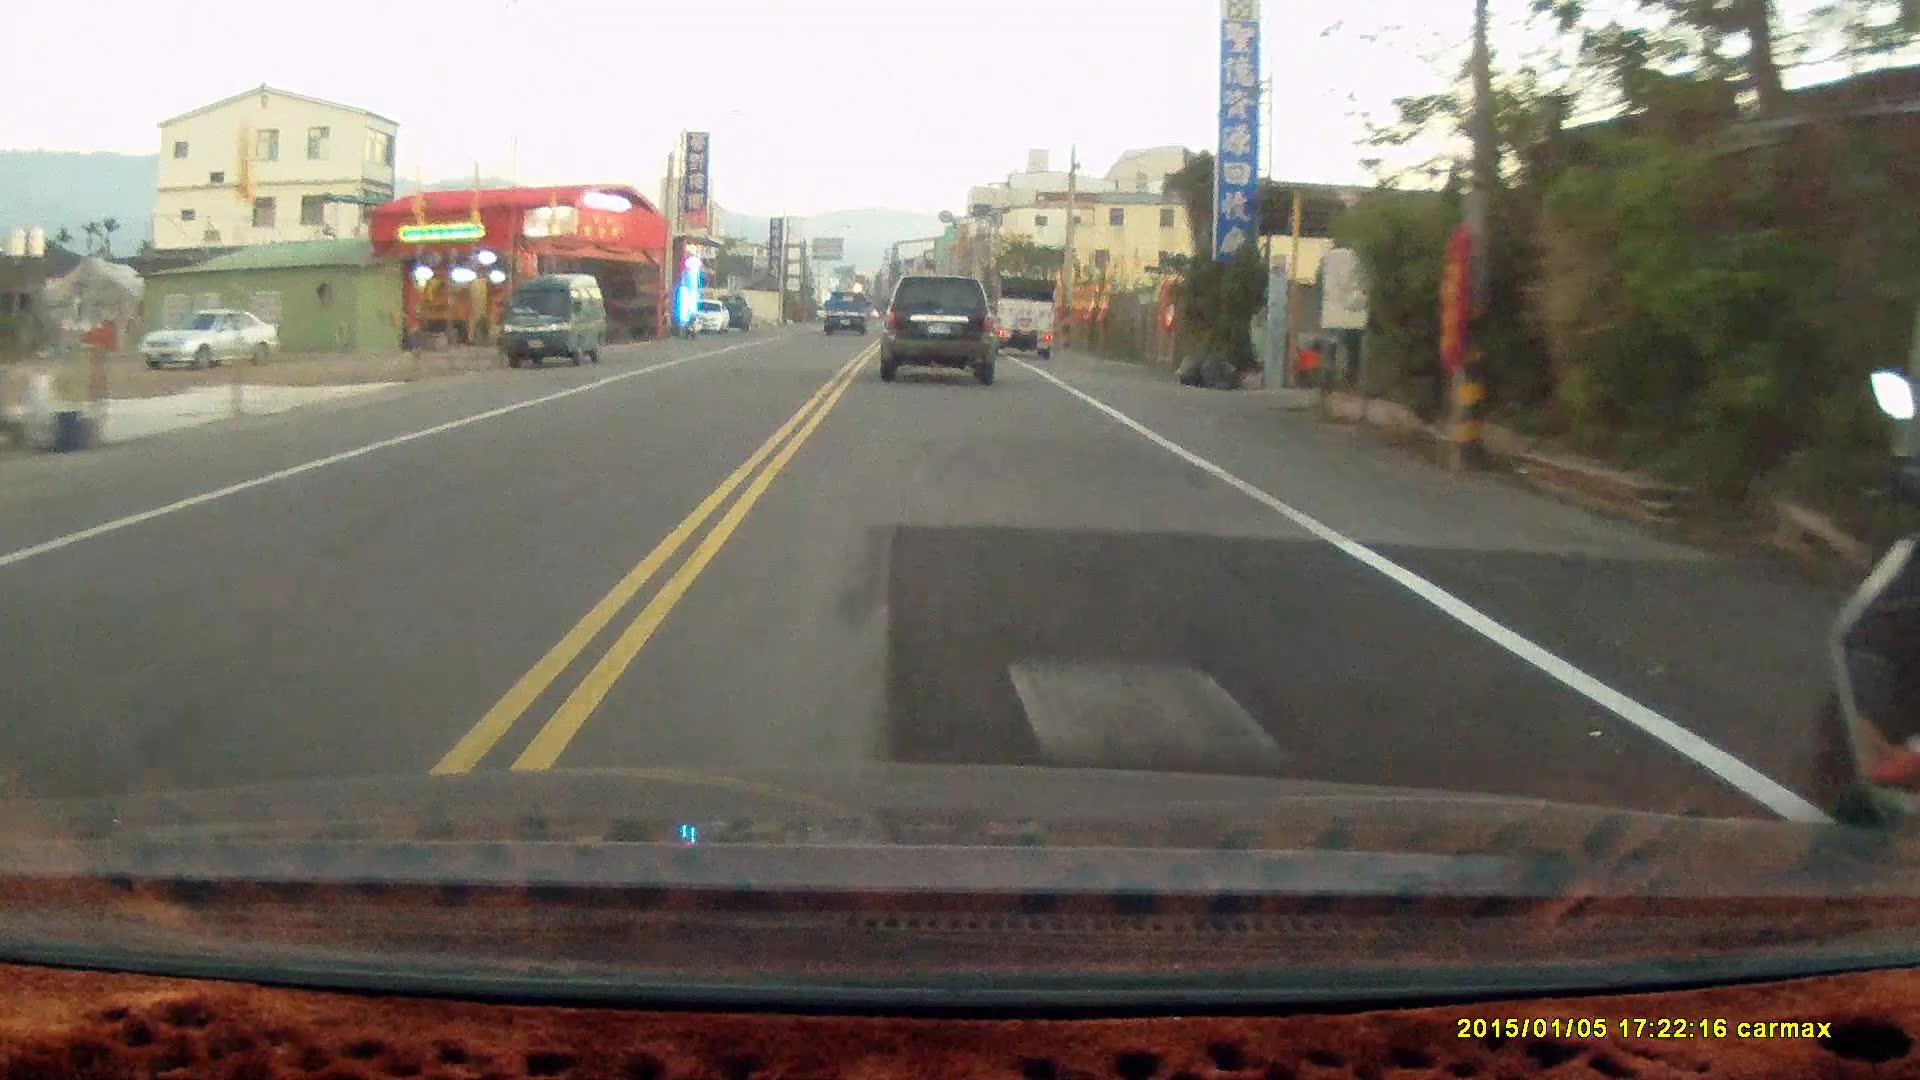rider: (1805, 348, 1920, 830)
vehicle: (870, 267, 1006, 386), (503, 273, 606, 372), (137, 304, 282, 373), (982, 275, 1059, 360), (822, 290, 873, 336)
